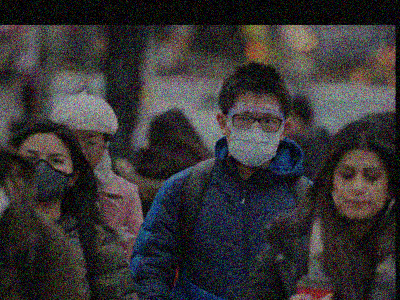with_mask: (226, 100, 285, 168), (17, 145, 72, 205)
without_mask: (330, 159, 390, 222), (73, 129, 106, 173)
